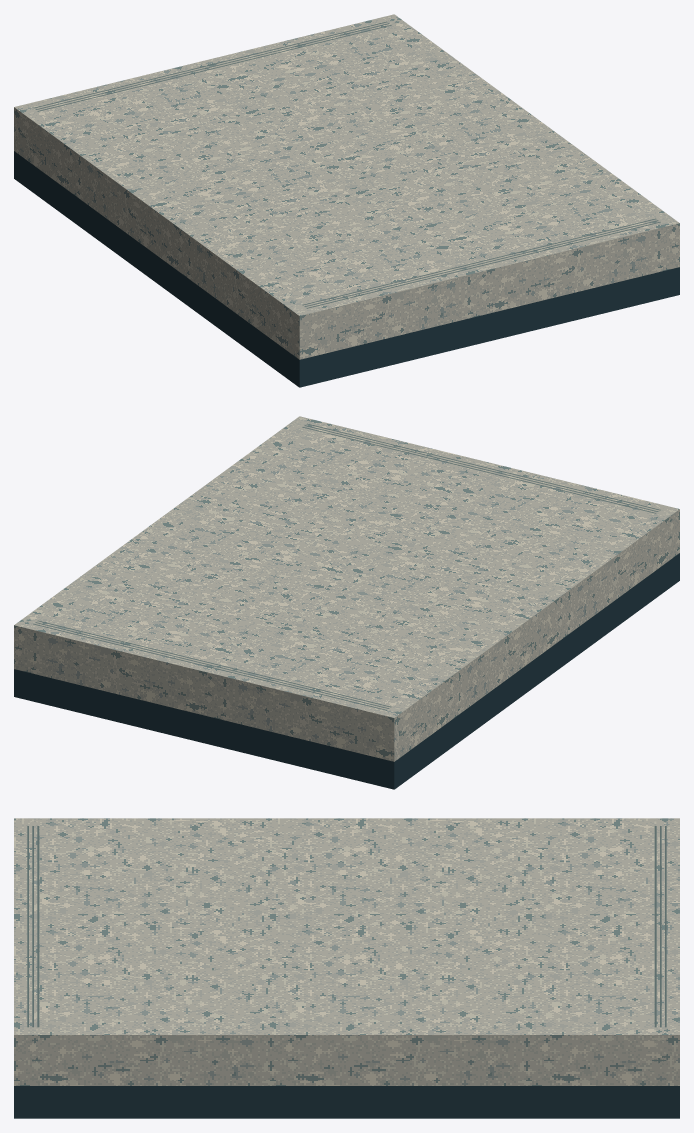
File: exit_slide_platform.glb
3 views of the same model, one above another, from view 1: azimuth 30°, elevation 25°; view 2: azimuth 150°, elevation 25°; view 3: azimuth 270°, elevation 25° (orthographic). The views are drawn at different scales.
Parts seen in each view (by area): view 1: b_platform_exit_slide; view 2: b_platform_exit_slide; view 3: b_platform_exit_slide.
Part boxes in pixels (x1,y1,x2,y2): b_platform_exit_slide: (14, 14, 679, 387); b_platform_exit_slide: (14, 416, 679, 789); b_platform_exit_slide: (14, 818, 679, 1118).
Bounding box in the file's own units: 2 × 0.36 × 2.6.
Materials: 3 (1 with a texture image).
